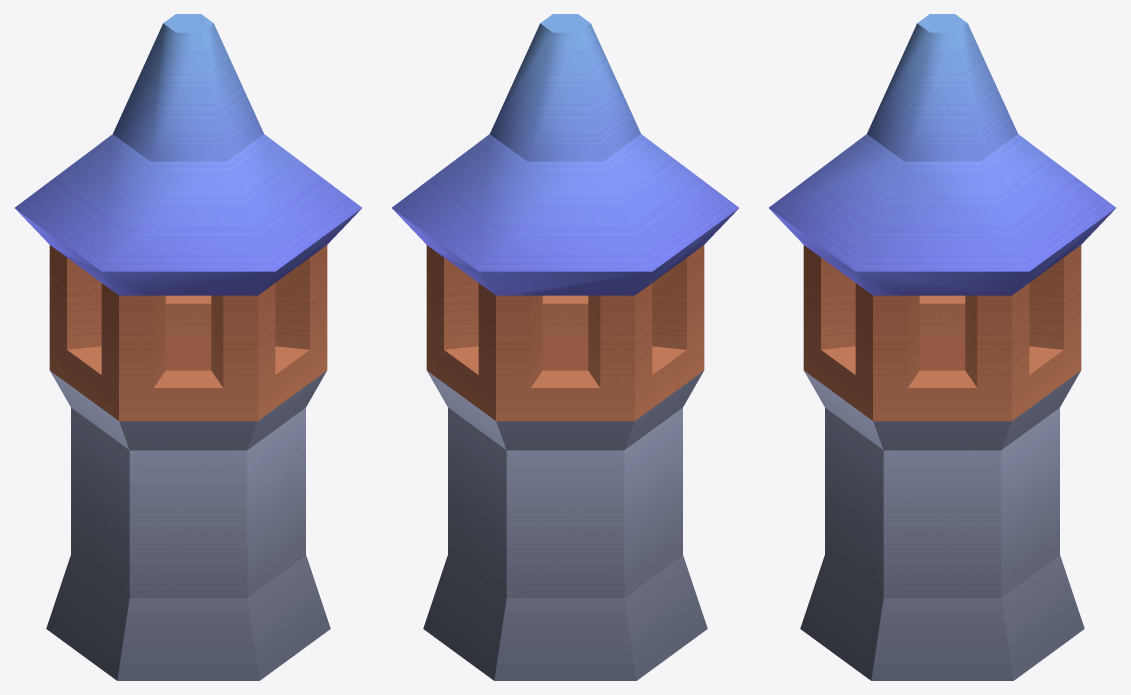
File: unit-tower.glb
3 renders of one model, left to right at view 1: azimuth 30°, elevation 25°; view 2: azimuth 150°, elevation 25°; view 3: azimuth 270°, elevation 25°, orthographic.
Visible parts, largest first — view 1: unit-tower; view 2: unit-tower; view 3: unit-tower.
Part boxes in pixels (x1,y1,x2,y2): unit-tower: [15, 14, 361, 680]; unit-tower: [392, 14, 738, 680]; unit-tower: [769, 14, 1115, 680].
Size of the model in its own units: 3.7 by 8.2 by 4.27.
1 material, 1 textured.
